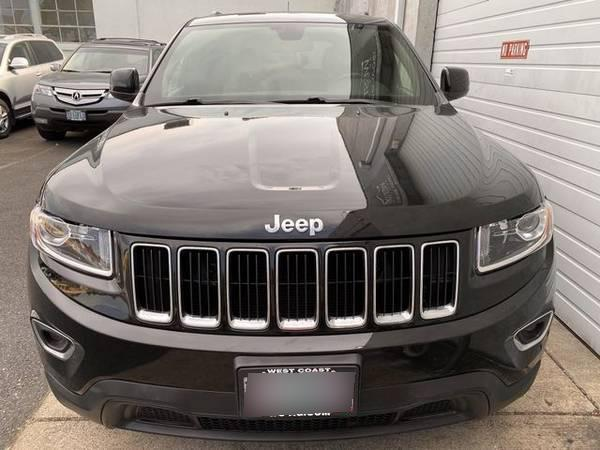Front_Bumper: (28, 244, 555, 438)
Front_Windshield: (134, 19, 445, 104)
Grille: (115, 228, 478, 339)
Hood: (38, 101, 545, 239)
Left_Headlight: (470, 194, 556, 279)
Left_Mirror: (441, 64, 472, 100)
Right_Headlight: (29, 207, 123, 290)
Right_Mirror: (109, 64, 139, 102)
